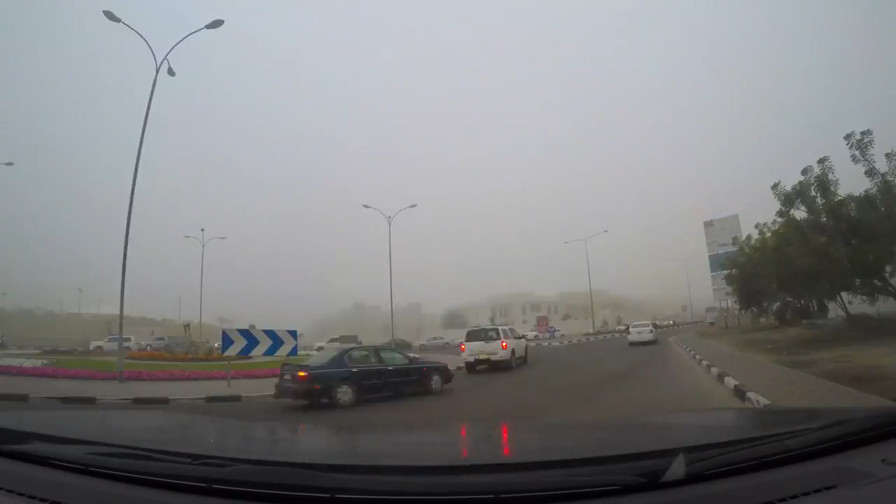car: (272, 343, 456, 412), (460, 324, 530, 376), (310, 334, 364, 357), (88, 333, 138, 355), (625, 319, 660, 346), (525, 324, 566, 342), (140, 335, 175, 353), (418, 335, 452, 350)
